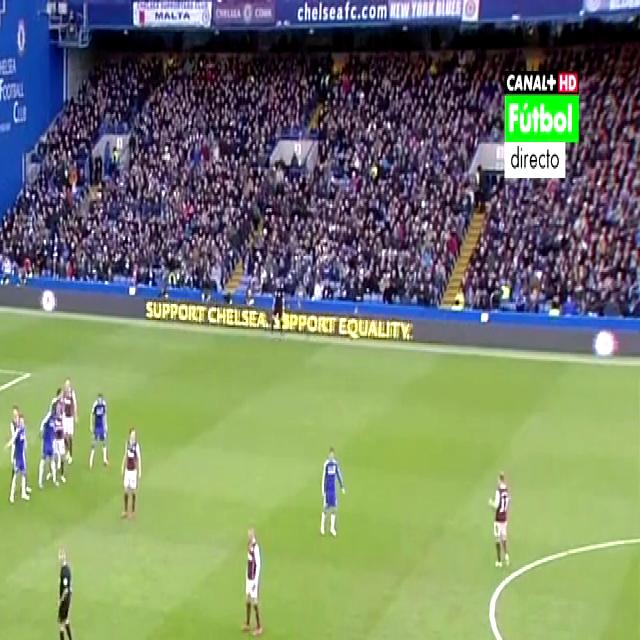referee: (49, 540, 79, 640)
soccer-player: (235, 514, 269, 640), (314, 435, 347, 547), (488, 462, 517, 581), (38, 386, 68, 497), (114, 418, 142, 526), (5, 403, 32, 512), (50, 366, 77, 474), (86, 378, 112, 477)
